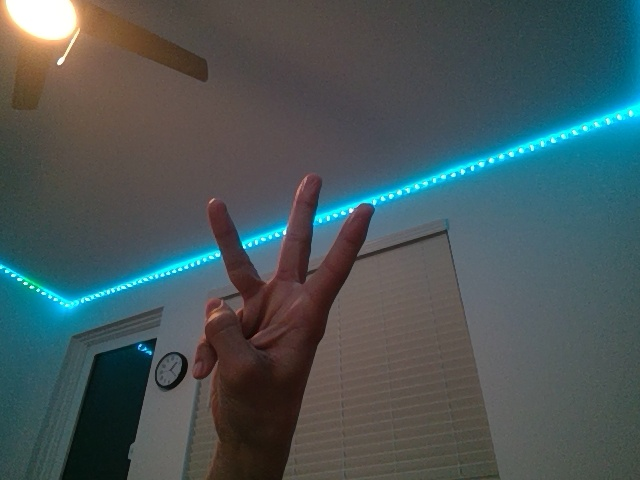w: (183, 176, 377, 450)
